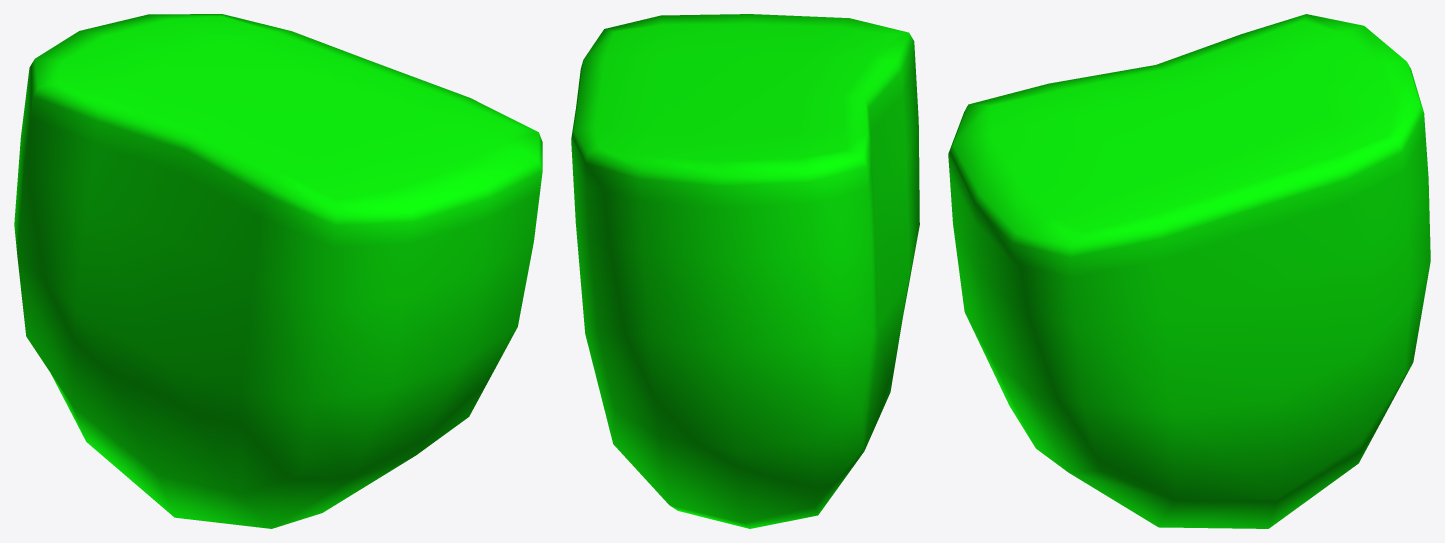
Rendered from Bridge Island Layer 1.fbx.
3 views of the same model, side by side, from view 1: azimuth 30°, elevation 25°; view 2: azimuth 150°, elevation 25°; view 3: azimuth 270°, elevation 25° (orthographic).
Parts seen in each view (by area): view 1: Bridge Island Layer.001; view 2: Bridge Island Layer.001; view 3: Bridge Island Layer.001.
Part boxes in pixels (box(x1,y1,x2,y2)): Bridge Island Layer.001: box(14, 14, 542, 528); Bridge Island Layer.001: box(571, 14, 919, 528); Bridge Island Layer.001: box(948, 14, 1430, 528).
Size of the model in its own units: 24.9 by 25.98 by 26.53.
